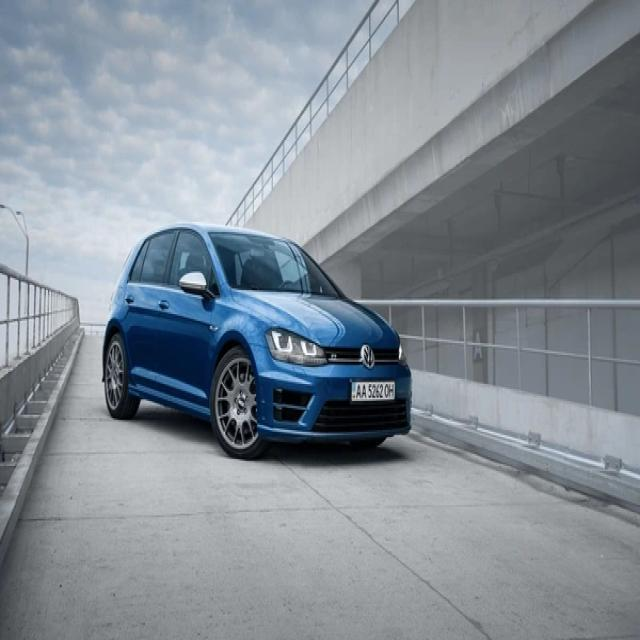wolksvogen: (358, 343, 379, 367)
